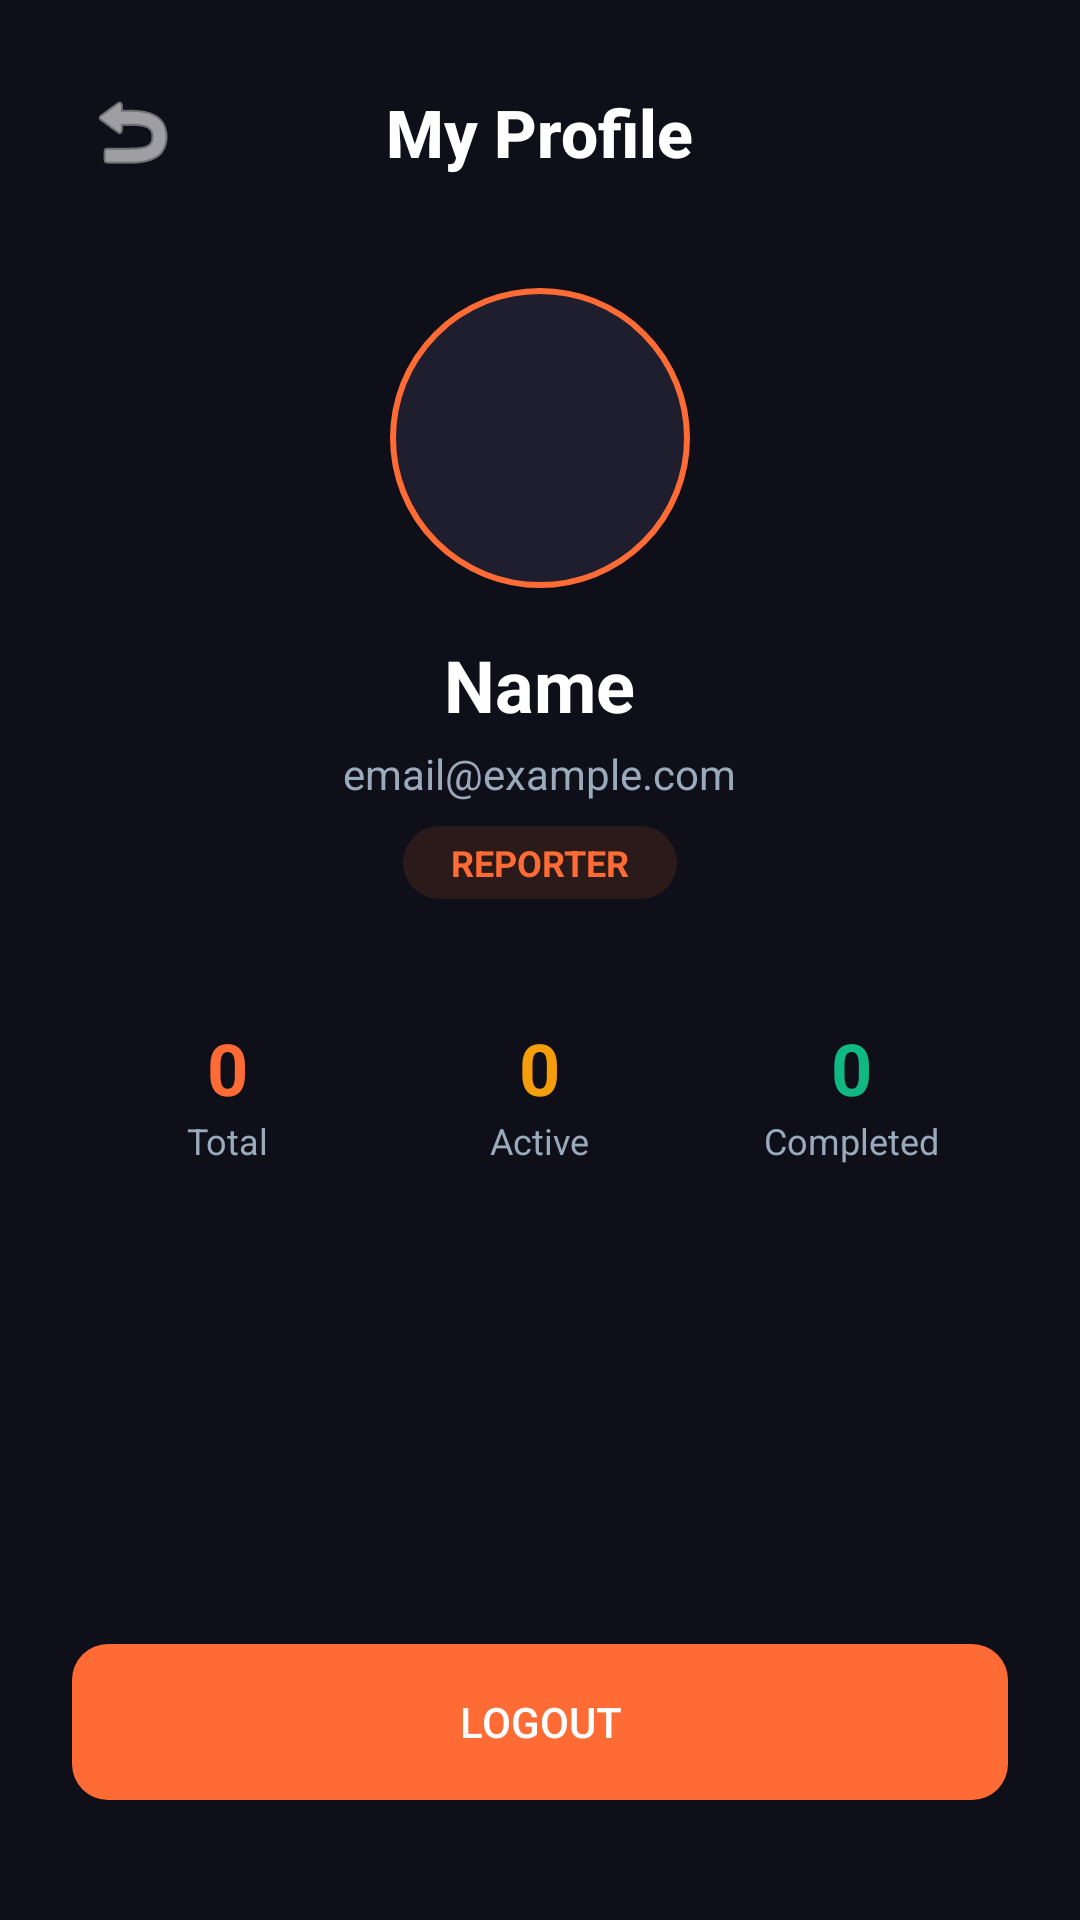

Icons on this 1080 x 1920 Android screen, each with the point to tap as (x,y):
Back: (133,132)
